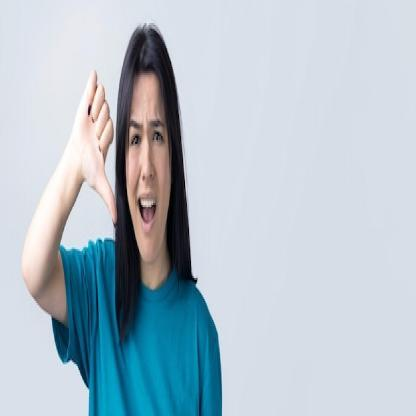thumb_down: (70, 66, 119, 224)
